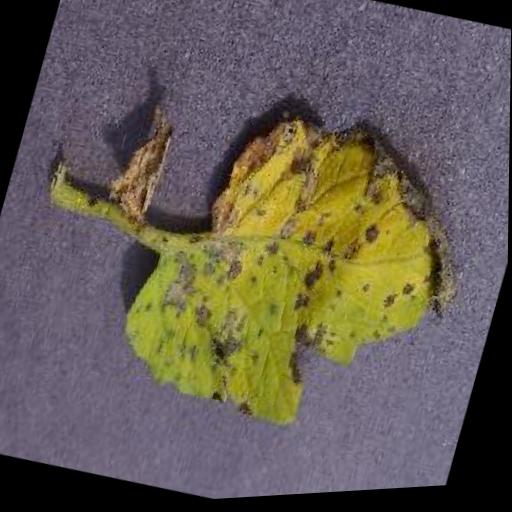Septoria: (105, 74, 496, 468)
